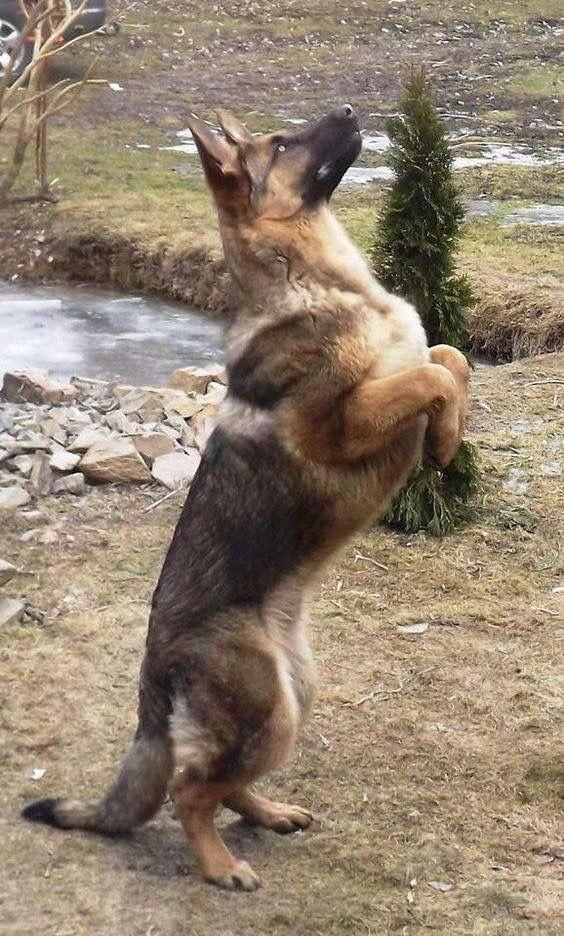adult_dog: (17, 89, 474, 893)
